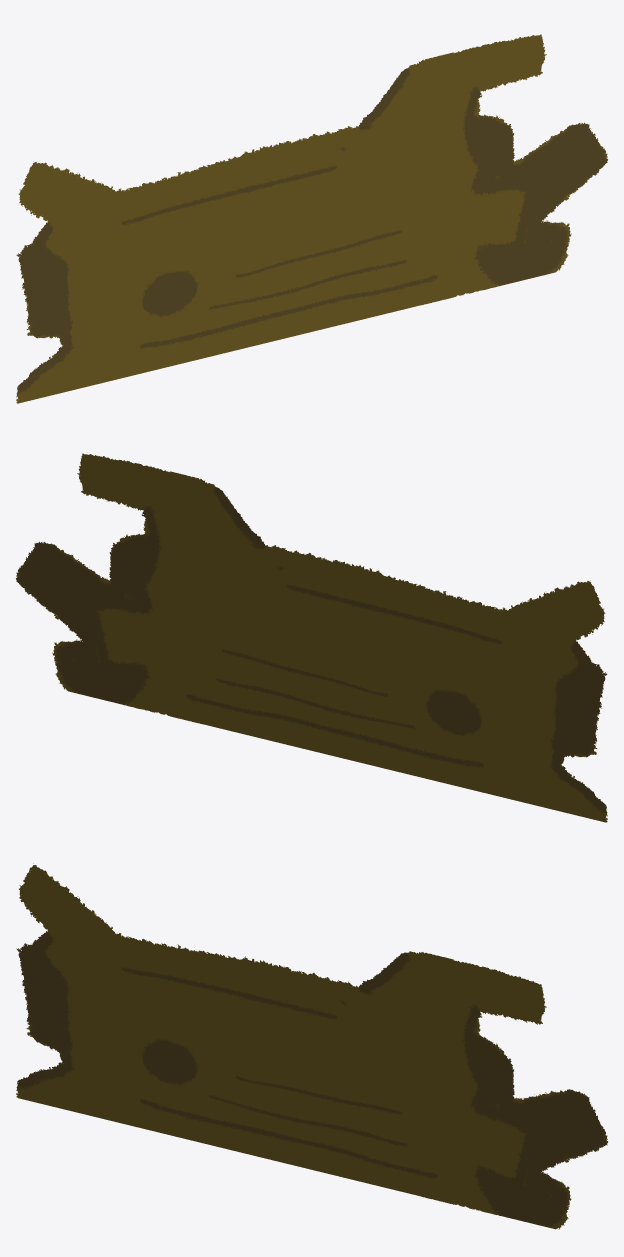
The model's file is Lay_Tree.fbx.
3 views of the same model, one above another, from view 1: azimuth 30°, elevation 25°; view 2: azimuth 150°, elevation 25°; view 3: azimuth 330°, elevation 25° (orthographic).
Visible parts, largest first — view 1: 平面; view 2: 平面; view 3: 平面.
Boxes of the visible parts, x1,y1,x2,y2 form: 平面: (16, 34, 607, 403); 平面: (16, 453, 607, 822); 平面: (16, 863, 607, 1229).
Bounding box in the file's own units: 954 × 375 × 1.06e-13.
Materials: 1 (1 with a texture image).
